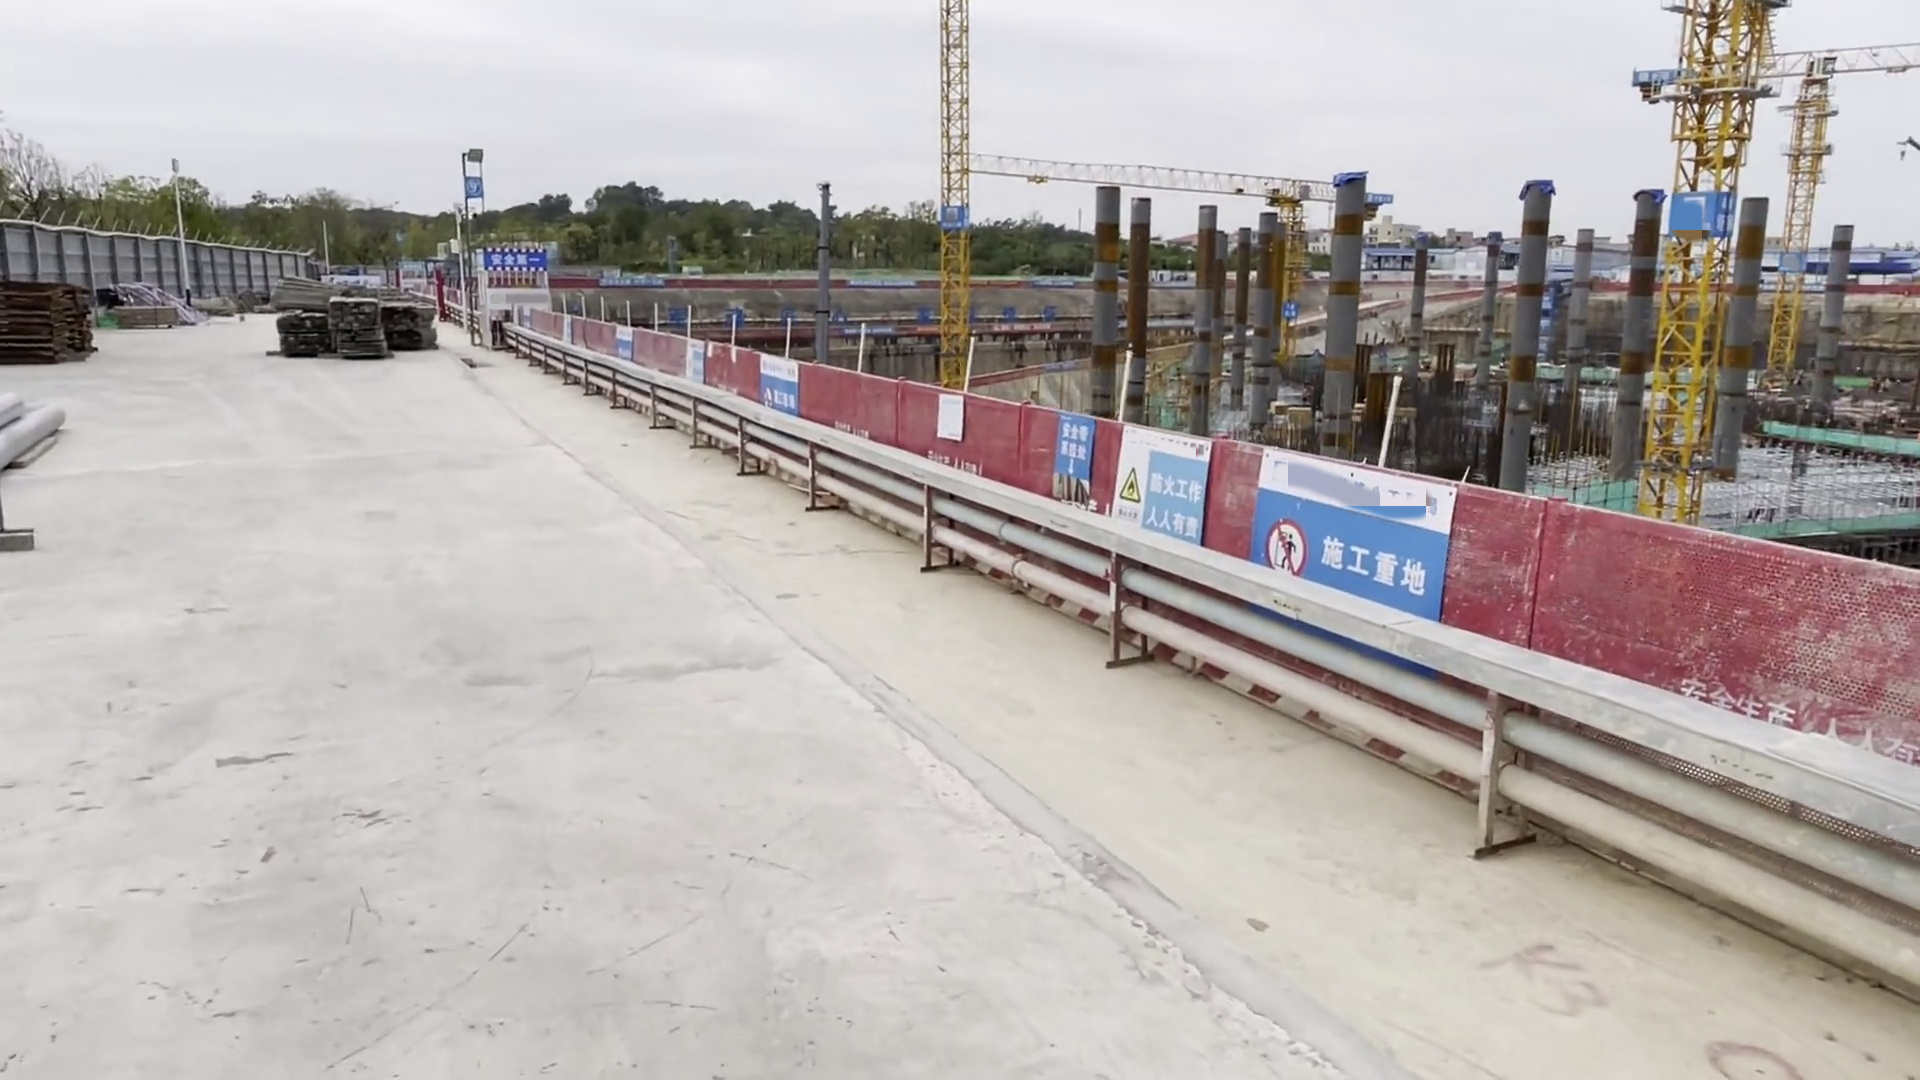fence: (1031, 411, 1535, 646), (1544, 502, 1920, 752), (818, 367, 1026, 491), (704, 342, 818, 415)
slogan: (1251, 447, 1447, 626), (1112, 427, 1215, 549), (1044, 406, 1097, 487), (756, 352, 800, 413), (477, 245, 543, 264), (596, 276, 662, 291), (612, 326, 637, 355), (852, 277, 914, 287), (1029, 276, 1075, 286), (844, 326, 895, 335), (994, 323, 1054, 330), (1149, 318, 1193, 326), (1284, 305, 1302, 320)
